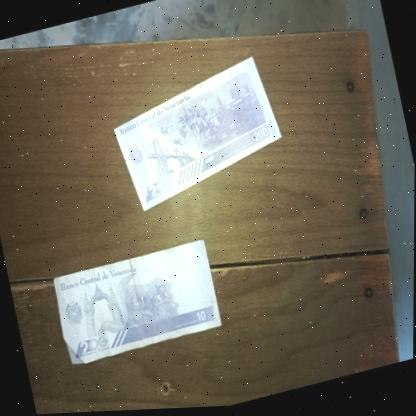ten-back-vef: (51, 238, 224, 369)
two_hundred-back-vef: (104, 53, 291, 216)
